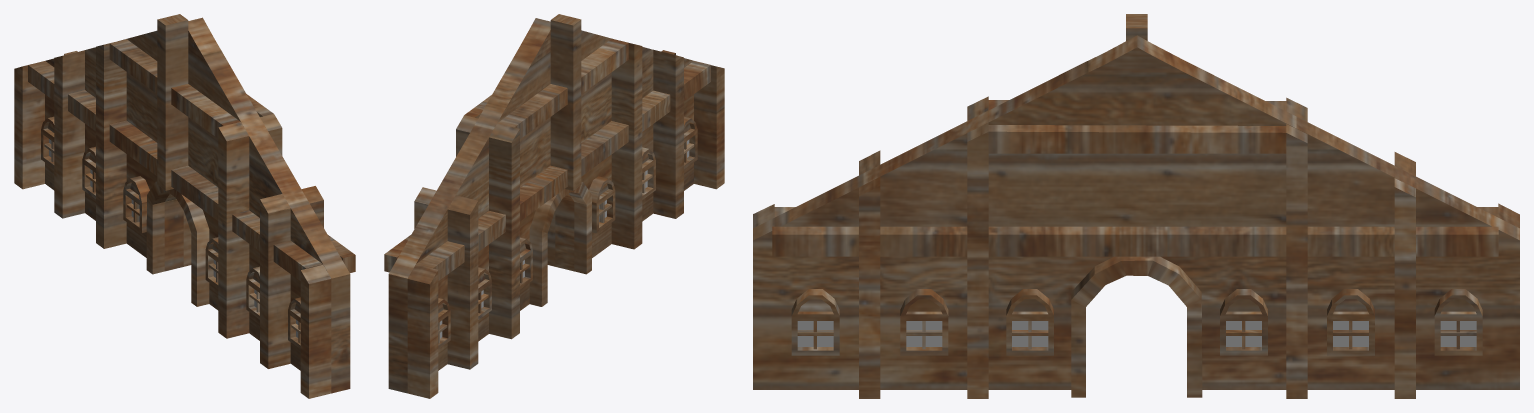
The model's file is Blacksnmith_frontwall.fbx.
3 views of the same model, side by side, from view 1: azimuth 30°, elevation 25°; view 2: azimuth 150°, elevation 25°; view 3: azimuth 270°, elevation 25° (orthographic). The views are drawn at different scales.
Visible parts, largest first — view 1: Blacksmith_frontwall1; view 2: Blacksmith_frontwall1; view 3: Blacksmith_frontwall1.
Part boxes in pixels (<box>): Blacksmith_frontwall1: <box>14,14,355,398</box>; Blacksmith_frontwall1: <box>384,14,724,398</box>; Blacksmith_frontwall1: <box>753,14,1519,398</box>.
Bounding box in the file's own units: 11.19 × 51.61 × 103.
